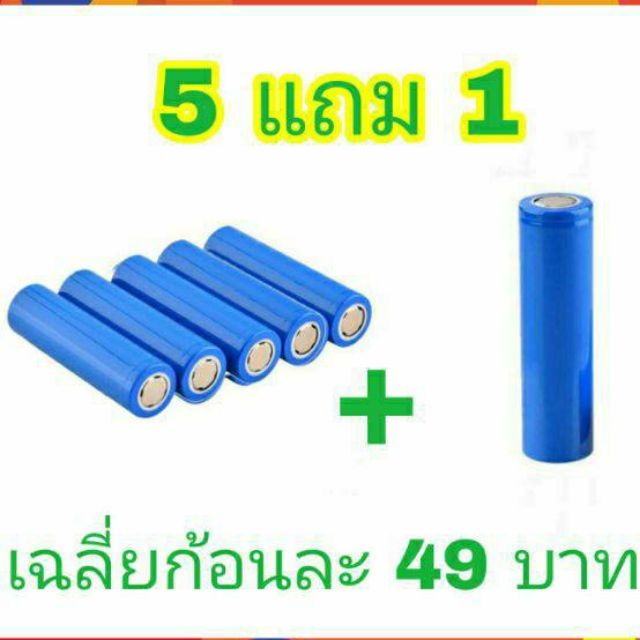Battery: (510, 185, 602, 471), (3, 279, 182, 421), (57, 266, 230, 406), (156, 236, 332, 372), (111, 252, 284, 388), (201, 217, 375, 350)
